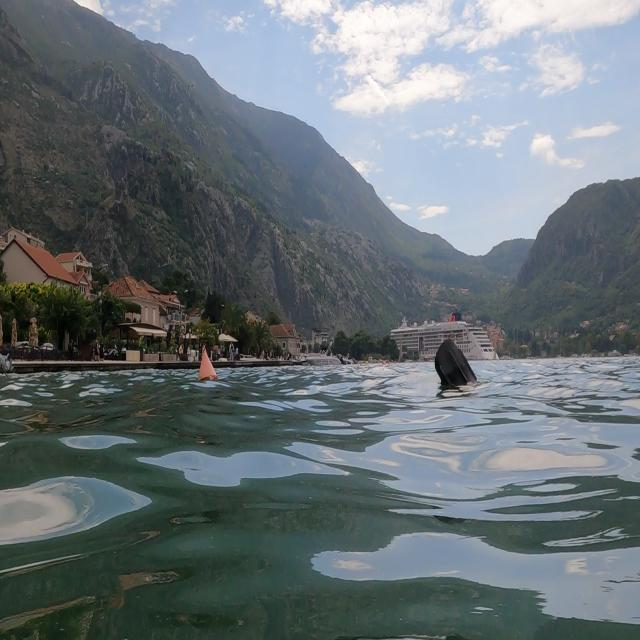boat: (388, 323, 508, 367)
buoy: (414, 338, 495, 406), (189, 340, 220, 394)
